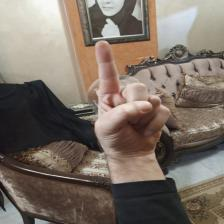one: (88, 37, 173, 160)
